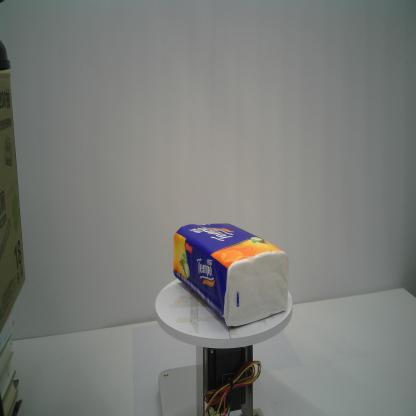Tissue: (173, 222, 290, 328)
